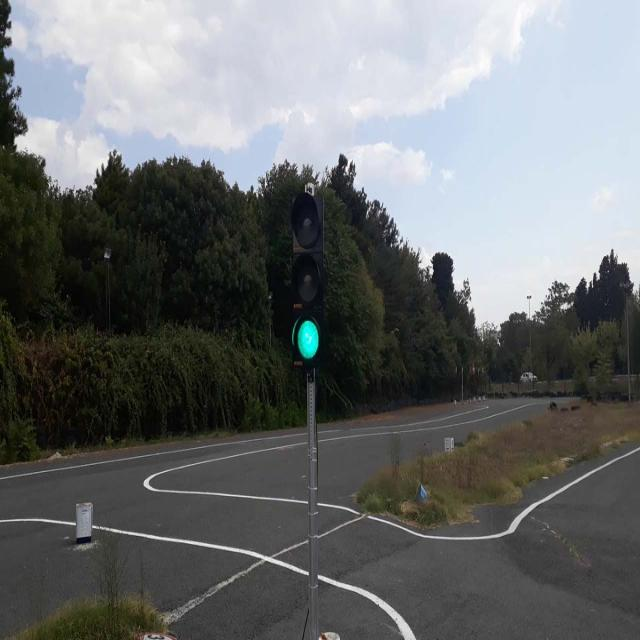yesil: (292, 195, 325, 361)
